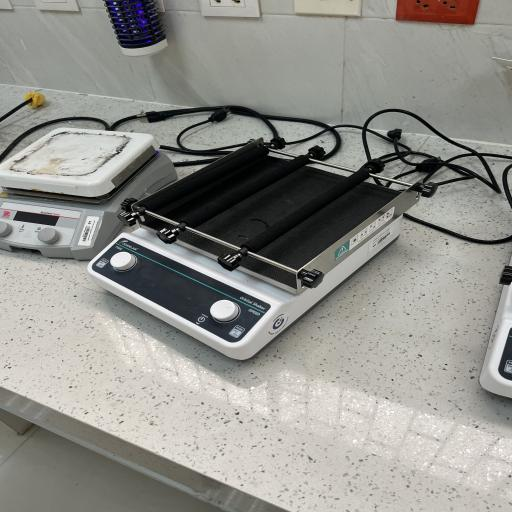Agitador_Orbital_DLAB: (71, 129, 441, 371)
